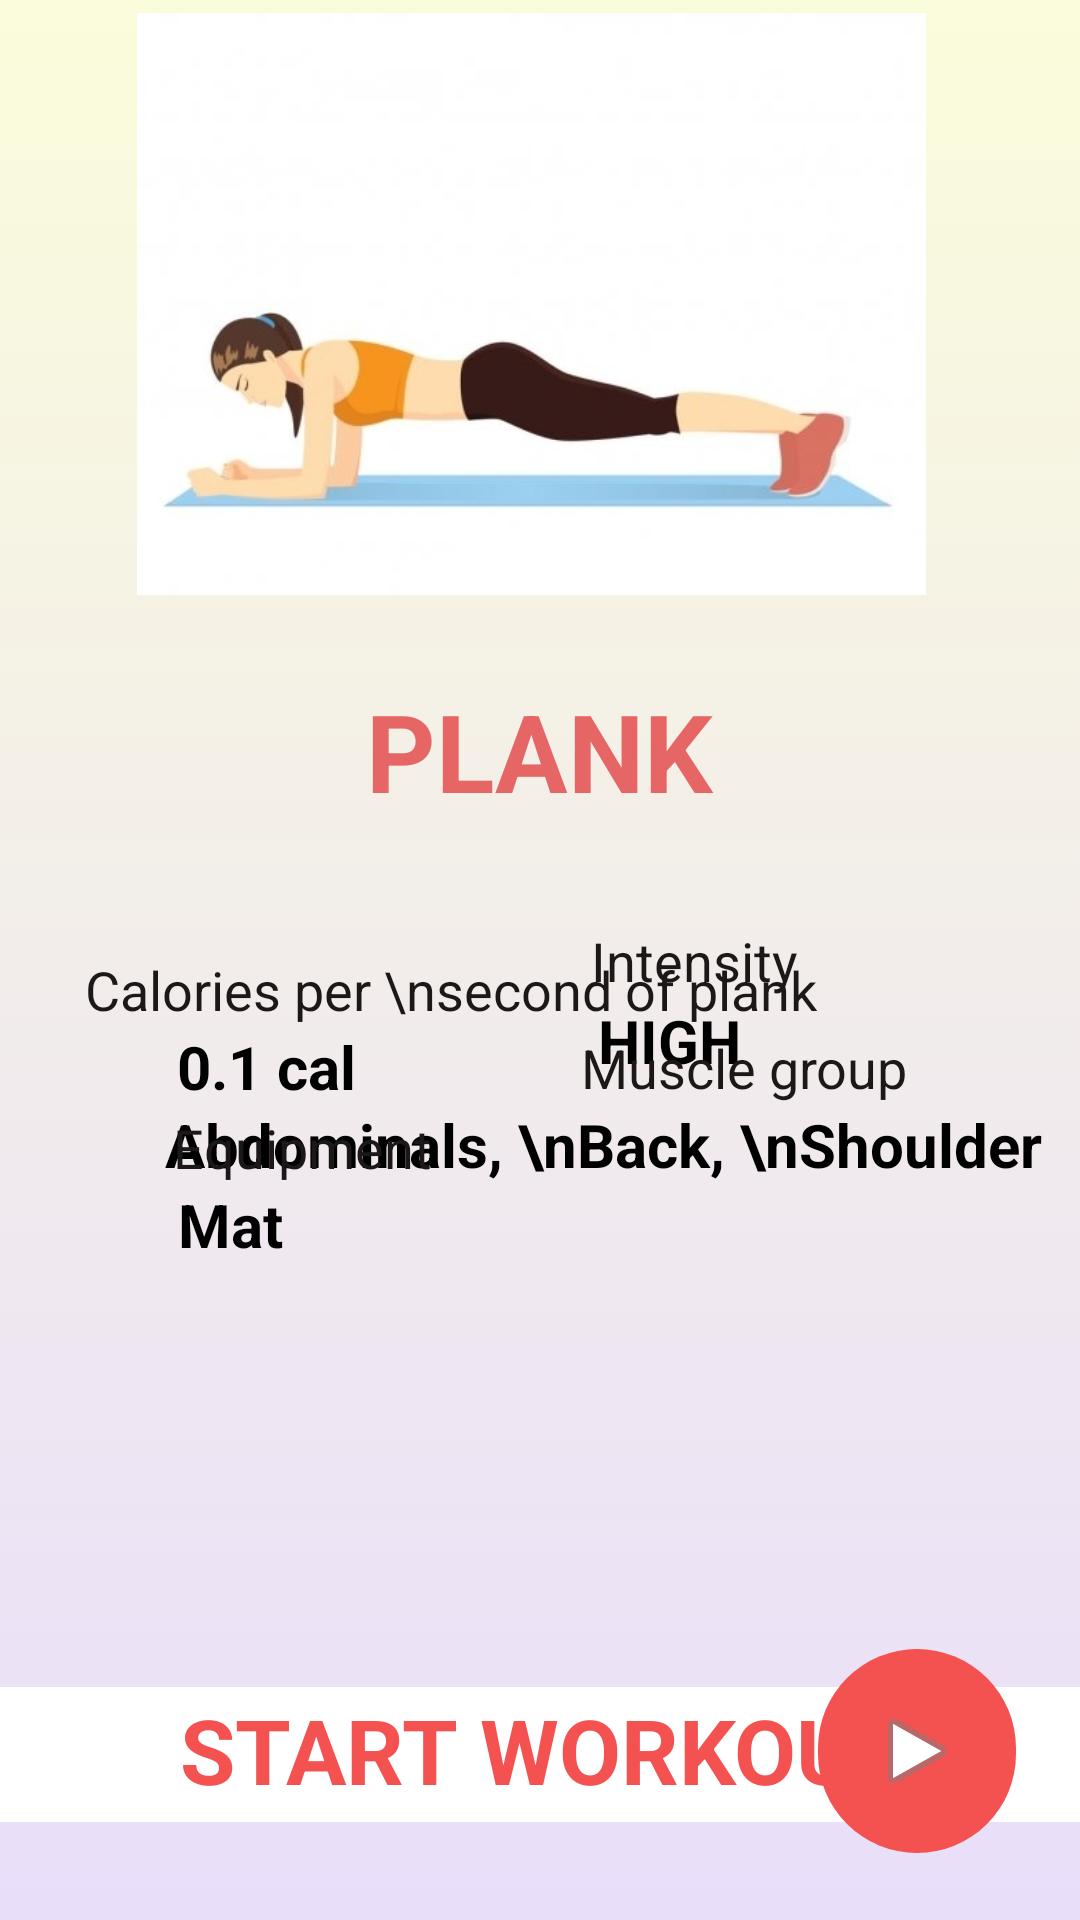

Icon bounding boxes for this 1080 x 1920 phone screenshot, format (left=x1, top=y1, right=x2, bottom=y2):
play: (left=818, top=1649, right=1016, bottom=1853)
